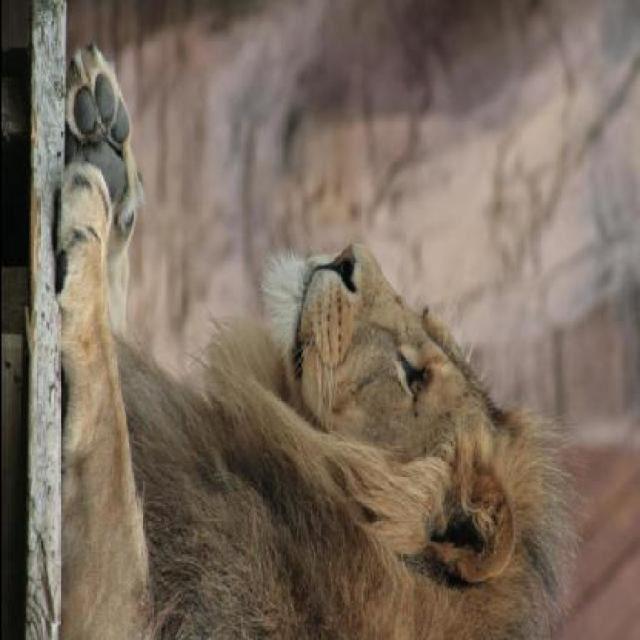Lion: (48, 26, 577, 639)
